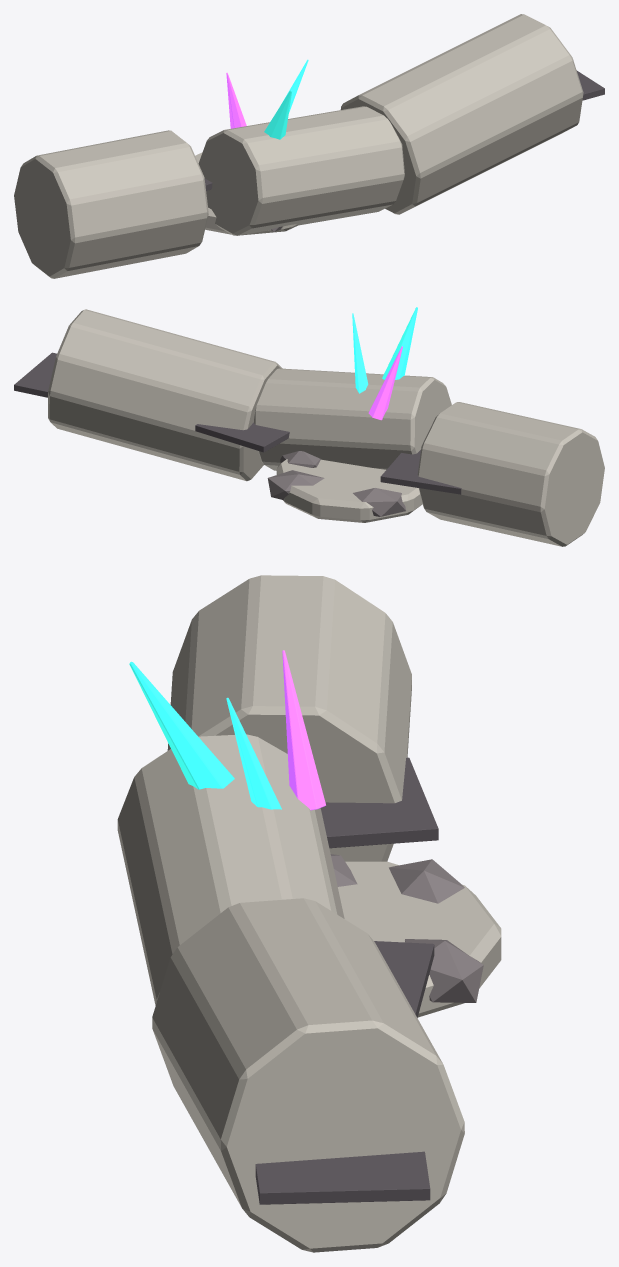
The model's file is runtime.glb.
The picture shows the model from 3 angles, top to bottom: view 1: azimuth 30°, elevation 25°; view 2: azimuth 150°, elevation 25°; view 3: azimuth 270°, elevation 25°; orthographic projection. The views are drawn at different scales.
Parts seen in each view (by area): view 1: crystal-ruins-damaged-column-v06_fallen_02_nocol, crystal-ruins-damaged-column-v06_fallen_00_nocol, crystal-ruins-damaged-column-v06_fallen_01_nocol, crystal-ruins-damaged-column-v06_crystal_02_nocol, crystal-ruins-damaged-column-v06_crystal_01_nocol, crystal-ruins-damaged-column-v06_base_nocol, crystal-ruins-damaged-column-v06_fracture_02_nocol; view 2: crystal-ruins-damaged-column-v06_fallen_02_nocol, crystal-ruins-damaged-column-v06_fallen_00_nocol, crystal-ruins-damaged-column-v06_fallen_01_nocol, crystal-ruins-damaged-column-v06_base_nocol, crystal-ruins-damaged-column-v06_fracture_01_nocol, crystal-ruins-damaged-column-v06_fracture_00_nocol, crystal-ruins-damaged-column-v06_fracture_02_nocol, crystal-ruins-damaged-column-v06_deposit_01_nocol, crystal-ruins-damaged-column-v06_deposit_03_nocol, crystal-ruins-damaged-column-v06_crystal_01_nocol, crystal-ruins-damaged-column-v06_crystal_02_nocol, crystal-ruins-damaged-column-v06_crystal_00_nocol (+1 smaller); view 3: crystal-ruins-damaged-column-v06_fallen_02_nocol, crystal-ruins-damaged-column-v06_fallen_00_nocol, crystal-ruins-damaged-column-v06_fallen_01_nocol, crystal-ruins-damaged-column-v06_base_nocol, crystal-ruins-damaged-column-v06_fracture_02_nocol, crystal-ruins-damaged-column-v06_fracture_00_nocol, crystal-ruins-damaged-column-v06_crystal_02_nocol, crystal-ruins-damaged-column-v06_crystal_01_nocol, crystal-ruins-damaged-column-v06_deposit_03_nocol, crystal-ruins-damaged-column-v06_fracture_01_nocol, crystal-ruins-damaged-column-v06_deposit_01_nocol, crystal-ruins-damaged-column-v06_crystal_00_nocol.
Boxes of the visible parts, bbox=[...] form: crystal-ruins-damaged-column-v06_fallen_02_nocol: bbox=[340, 14, 583, 214]; crystal-ruins-damaged-column-v06_fallen_00_nocol: bbox=[14, 130, 208, 278]; crystal-ruins-damaged-column-v06_fallen_01_nocol: bbox=[198, 106, 404, 235]; crystal-ruins-damaged-column-v06_crystal_02_nocol: bbox=[264, 90, 292, 139]; crystal-ruins-damaged-column-v06_crystal_01_nocol: bbox=[226, 72, 246, 128]; crystal-ruins-damaged-column-v06_base_nocol: bbox=[195, 152, 298, 235]; crystal-ruins-damaged-column-v06_fracture_02_nocol: bbox=[576, 70, 604, 100]; crystal-ruins-damaged-column-v06_fallen_02_nocol: bbox=[48, 309, 282, 481]; crystal-ruins-damaged-column-v06_fallen_00_nocol: bbox=[417, 402, 604, 546]; crystal-ruins-damaged-column-v06_fallen_01_nocol: bbox=[254, 368, 451, 470]; crystal-ruins-damaged-column-v06_base_nocol: bbox=[276, 459, 422, 522]; crystal-ruins-damaged-column-v06_fracture_01_nocol: bbox=[195, 422, 289, 452]; crystal-ruins-damaged-column-v06_fracture_00_nocol: bbox=[380, 450, 461, 494]; crystal-ruins-damaged-column-v06_fracture_02_nocol: bbox=[14, 352, 56, 397]; crystal-ruins-damaged-column-v06_deposit_01_nocol: bbox=[353, 488, 405, 516]; crystal-ruins-damaged-column-v06_deposit_03_nocol: bbox=[267, 470, 324, 499]; crystal-ruins-damaged-column-v06_crystal_01_nocol: bbox=[368, 346, 402, 420]; crystal-ruins-damaged-column-v06_crystal_02_nocol: bbox=[382, 307, 417, 379]; crystal-ruins-damaged-column-v06_crystal_00_nocol: bbox=[352, 313, 368, 393]; crystal-ruins-damaged-column-v06_fallen_02_nocol: bbox=[152, 898, 464, 1252]; crystal-ruins-damaged-column-v06_fallen_00_nocol: bbox=[167, 575, 411, 861]; crystal-ruins-damaged-column-v06_fallen_01_nocol: bbox=[117, 734, 344, 1005]; crystal-ruins-damaged-column-v06_base_nocol: bbox=[338, 861, 501, 1017]; crystal-ruins-damaged-column-v06_fracture_02_nocol: bbox=[255, 1151, 430, 1204]; crystal-ruins-damaged-column-v06_fracture_00_nocol: bbox=[320, 757, 438, 848]; crystal-ruins-damaged-column-v06_crystal_02_nocol: bbox=[129, 661, 234, 789]; crystal-ruins-damaged-column-v06_crystal_01_nocol: bbox=[282, 650, 325, 810]; crystal-ruins-damaged-column-v06_deposit_03_nocol: bbox=[405, 939, 483, 1002]; crystal-ruins-damaged-column-v06_fracture_01_nocol: bbox=[374, 941, 434, 1017]; crystal-ruins-damaged-column-v06_deposit_01_nocol: bbox=[389, 859, 464, 903]; crystal-ruins-damaged-column-v06_crystal_00_nocol: bbox=[226, 697, 281, 809].
Size of the model in its own units: 7.6 by 2.36 by 2.37.
